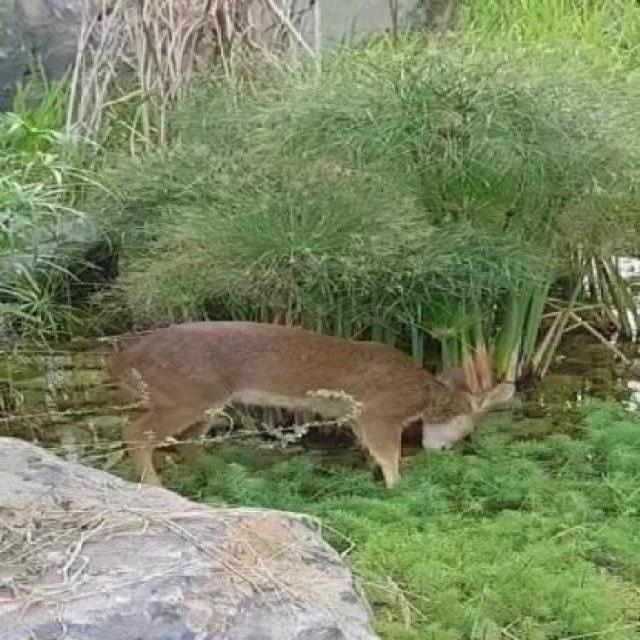deer: (69, 314, 562, 510)
